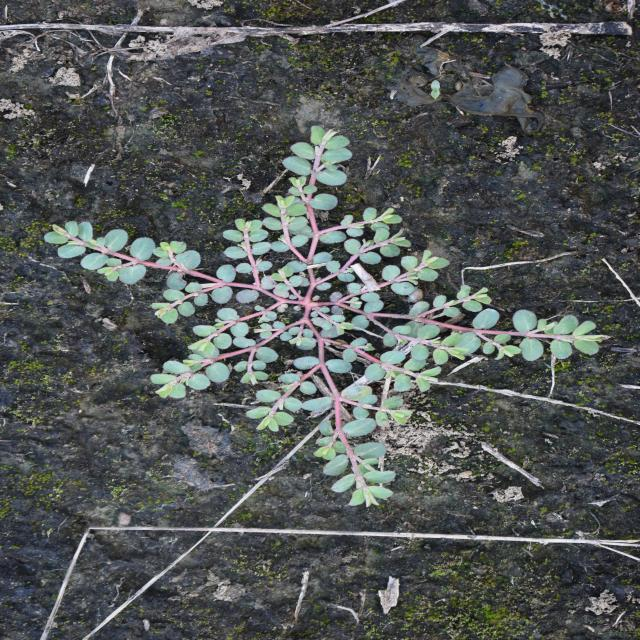SpottedSpurge: (42, 121, 616, 509)
